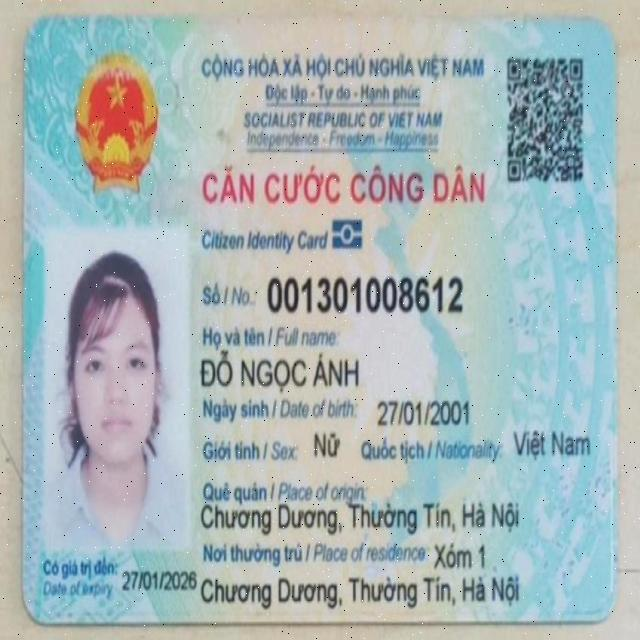current_place: (198, 570, 526, 611), (428, 533, 490, 572)
dob: (377, 398, 473, 428)
expire_date: (119, 566, 198, 595)
gender: (310, 430, 344, 464)
id: (265, 273, 467, 316)
name: (198, 347, 362, 397)
nationality: (510, 421, 593, 466)
origin_place: (198, 499, 522, 534)
qr: (504, 54, 588, 190)
